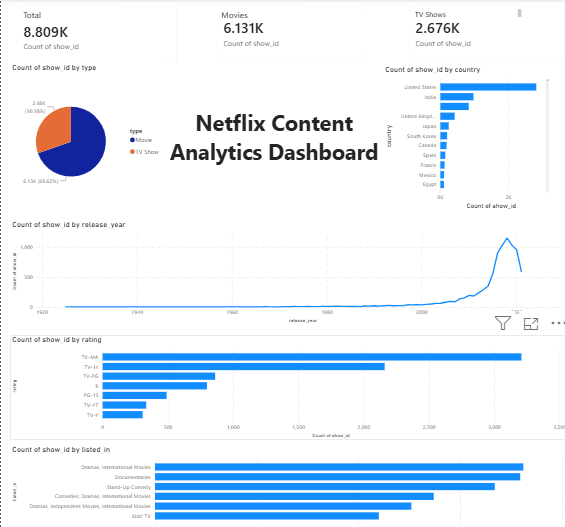

The page's visual inventory and layout, read from the dashboard file:
{"tool":"powerbi","page":{"name":"Page 1","canvas":[1280,1200],"ordinal":0},"visuals":[{"type":"cardVisual","fields":{"Data":["CountNonNull(netflix_titles.show_id)"]},"box":[461.9,0,354.4,146.1],"z":0},{"type":"cardVisual","fields":{"Data":["CountNonNull(netflix_titles.show_id)"]},"box":[20.2,0,386.4,161.3],"z":1000},{"type":"cardVisual","fields":{"Data":["CountNonNull(netflix_titles.show_id)"]},"box":[886.9,0,378,146.1],"z":2000},{"type":"textbox","box":[43.7,16.8,215,37],"z":3000},{"type":"textbox","box":[482.1,16.8,189.8,35.3],"z":4000},{"type":"textbox","box":[912.1,16.8,245.2,28.6],"z":5000},{"type":"pieChart","fields":{"Category":["netflix_titles.type"],"Y":["CountNonNull(netflix_titles.show_id)"]},"box":[19.5,141.5,343.9,329.3],"z":6000},{"type":"clusteredBarChart","fields":{"Category":["netflix_titles.country"],"Y":["CountNonNull(netflix_titles.show_id)"]},"box":[846.3,146.3,373.2,324.4],"z":7000},{"type":"lineChart","fields":{"Category":["netflix_titles.release_year"],"Y":["CountNonNull(netflix_titles.show_id)"]},"box":[20.2,488.8,1244.7,231.8],"z":7001},{"type":"clusteredBarChart","fields":{"Category":["netflix_titles.rating"],"Y":["CountNonNull(netflix_titles.show_id)"]},"box":[20,745,1245,232],"z":7002},{"type":"clusteredBarChart","fields":{"Category":["netflix_titles.listed_in"],"Y":["CountNonNull(netflix_titles.show_id)"]},"box":[20,987,1245,213],"z":7003},{"type":"textbox","box":[363.4,234.1,482.9,253.7],"z":7004}]}

Visuals, with their boxes in screenshot pixels (x1, y1, x2, y2), scaled from the page's 1280x1200 canvas onto the 565x527 screenshot:
cardVisual - CountNonNull(netflix_titles.show_id): x1=204, y1=0, x2=360, y2=64
cardVisual - CountNonNull(netflix_titles.show_id): x1=9, y1=0, x2=179, y2=71
cardVisual - CountNonNull(netflix_titles.show_id): x1=391, y1=0, x2=558, y2=64
textbox: x1=19, y1=7, x2=114, y2=24
textbox: x1=213, y1=7, x2=297, y2=23
textbox: x1=403, y1=7, x2=511, y2=20
pieChart - netflix_titles.type x CountNonNull(netflix_titles.show_id): x1=9, y1=62, x2=160, y2=207
clusteredBarChart - netflix_titles.country x CountNonNull(netflix_titles.show_id): x1=374, y1=64, x2=538, y2=207
lineChart - netflix_titles.release_year x CountNonNull(netflix_titles.show_id): x1=9, y1=215, x2=558, y2=316
clusteredBarChart - netflix_titles.rating x CountNonNull(netflix_titles.show_id): x1=9, y1=327, x2=558, y2=429
clusteredBarChart - netflix_titles.listed_in x CountNonNull(netflix_titles.show_id): x1=9, y1=433, x2=558, y2=526
textbox: x1=160, y1=103, x2=374, y2=214
